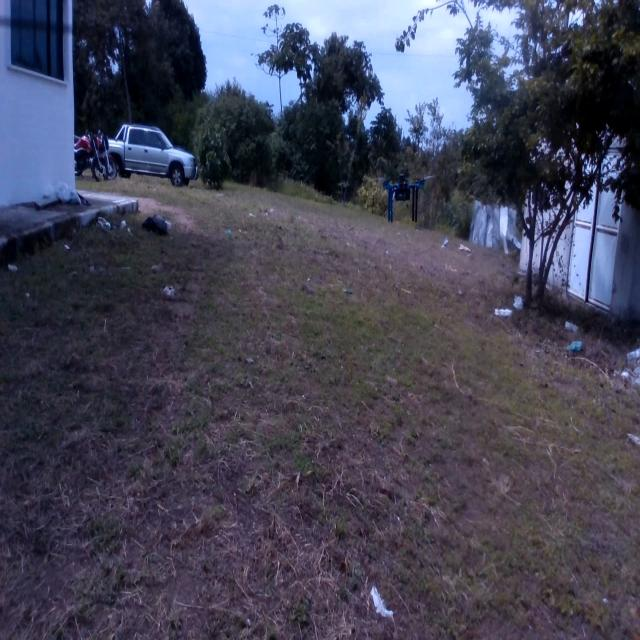-uav-: (360, 158, 442, 226)
